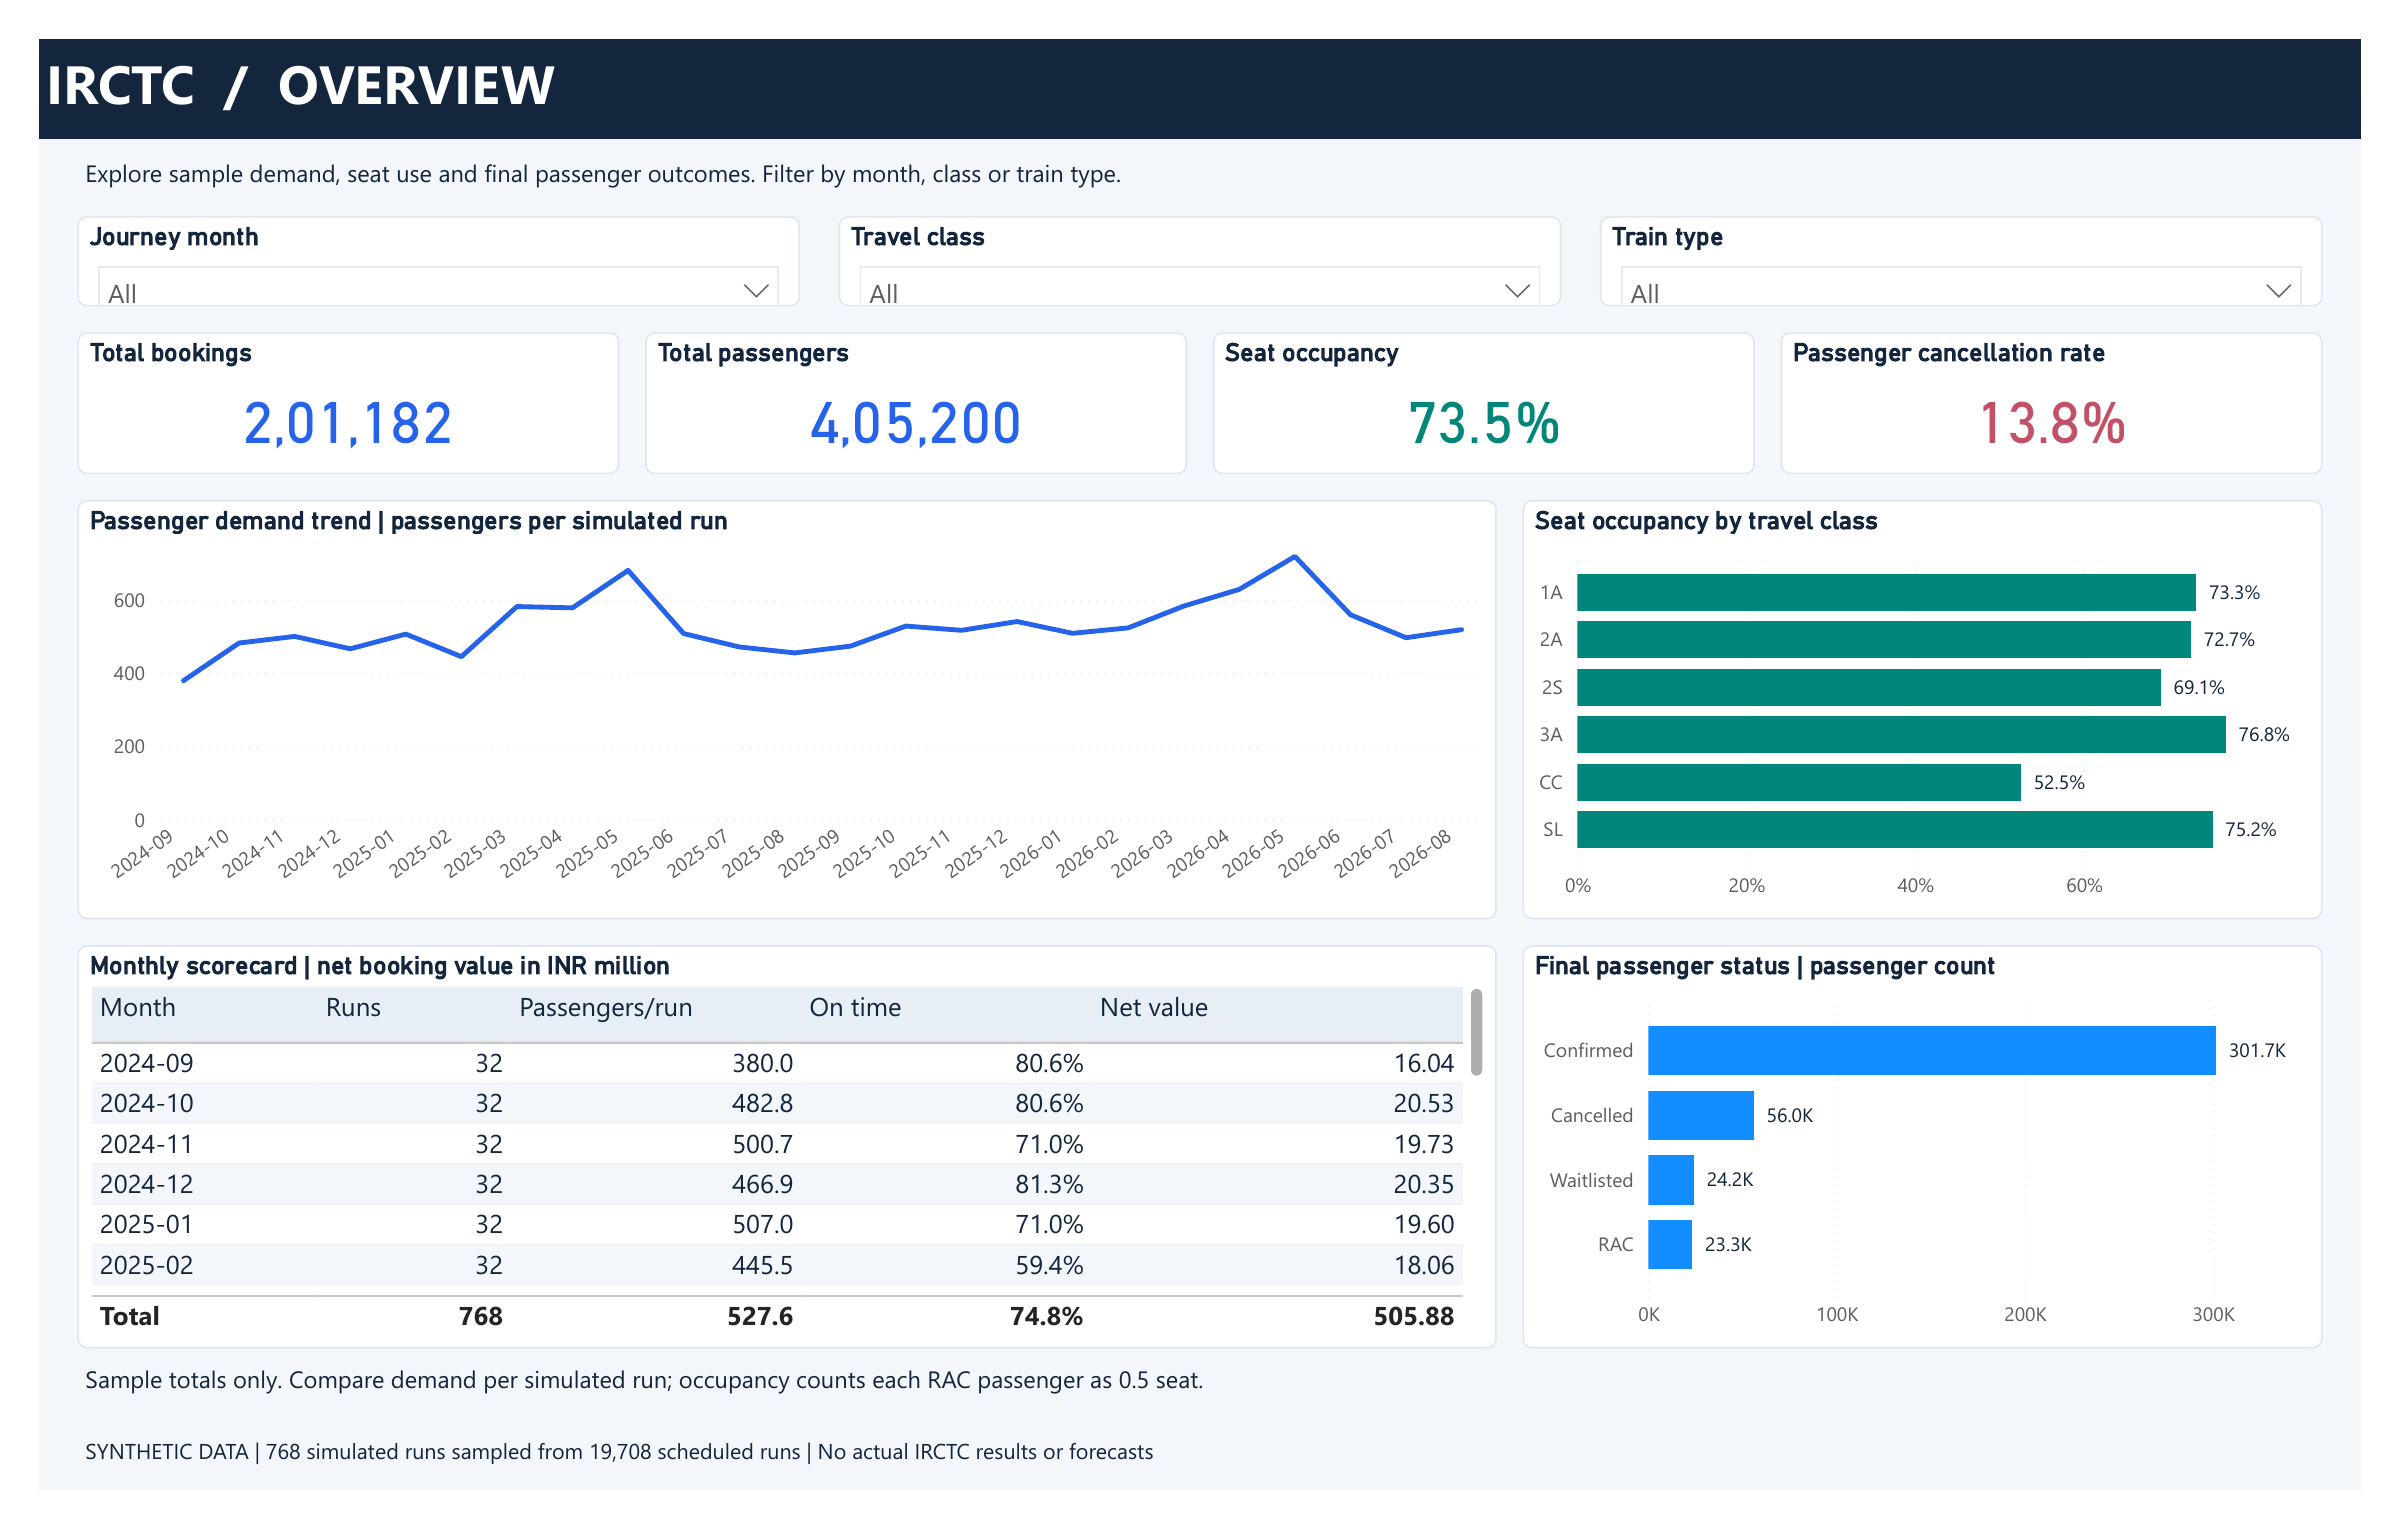

Layout of this report page (visuals, bound fields, positions):
{"tool":"tableau","page":{"name":"01 Overview","canvas":[1400,820],"ordinal":0},"visuals":[{"type":"text","box":[0,0,1400,58]},{"type":"text","box":[22,66,1356,28]},{"type":"parameter","param":"[Parameters].[Journey month]","box":[22,102,328,53]},{"type":"parameter","param":"[Parameters].[Travel class]","box":[366,102,328,53]},{"type":"parameter","param":"[Parameters].[Train type]","box":[710,102,328,53]},{"type":"text","box":[1060,111,318,35]},{"type":"text","box":[22,168,327,27]},{"type":"text","box":[366,168,327,27]},{"type":"text","box":[710,168,327,27]},{"type":"text","box":[1054,168,327,27]},{"type":"worksheet","title":"01 KPI Total bookings","mark":"Text","box":[22,195,327,61]},{"type":"worksheet","title":"01 KPI Total passengers","mark":"Text","box":[366,195,327,61]},{"type":"worksheet","title":"01 KPI Seat occupancy","mark":"Text","box":[710,195,327,61]},{"type":"worksheet","title":"01 KPI Passenger cancellation rate","mark":"Text","box":[1054,195,327,61]},{"type":"worksheet","title":"01 Passenger demand | passengers per run","mark":"Line","rows":["Passengers per Run"],"cols":["Month"],"box":[22,272,850,225]},{"type":"worksheet","title":"01 Seat occupancy by class","mark":"Bar","rows":["TravelClass"],"cols":["Seat Occupancy"],"box":[888,272,490,225]},{"type":"worksheet","title":"01 Final passenger status","mark":"Bar","rows":["FinalStatus"],"cols":["Total Passengers"],"box":[22,513,660,222]},{"type":"parameter","param":"[Parameters].[Rate KPI]","box":[698,513,680,40]},{"type":"worksheet","title":"01 Selected rate by month","mark":"Line","rows":["Selected Rate KPI"],"cols":["Month"],"box":[698,558,680,177]},{"type":"text","box":[22,751,1356,27]},{"type":"text","box":[22,788,1356,23]}]}

Visuals, with their boxes on the page's 1400x820 design canvas (x1, y1, x2, y2). These are canvas units, not pixel positions in the 2400x1530 screenshot, which may show the page scaled, cropped or inside an application window:
text: region(0, 0, 1400, 58)
text: region(22, 66, 1378, 94)
parameter: region(22, 102, 350, 155)
parameter: region(366, 102, 694, 155)
parameter: region(710, 102, 1038, 155)
text: region(1060, 111, 1378, 146)
text: region(22, 168, 349, 195)
text: region(366, 168, 693, 195)
text: region(710, 168, 1037, 195)
text: region(1054, 168, 1381, 195)
"01 KPI Total bookings" worksheet (Text marks): region(22, 195, 349, 256)
"01 KPI Total passengers" worksheet (Text marks): region(366, 195, 693, 256)
"01 KPI Seat occupancy" worksheet (Text marks): region(710, 195, 1037, 256)
"01 KPI Passenger cancellation rate" worksheet (Text marks): region(1054, 195, 1381, 256)
"01 Passenger demand | passengers per run" worksheet (Line marks): region(22, 272, 872, 497)
"01 Seat occupancy by class" worksheet (Bar marks): region(888, 272, 1378, 497)
"01 Final passenger status" worksheet (Bar marks): region(22, 513, 682, 735)
parameter: region(698, 513, 1378, 553)
"01 Selected rate by month" worksheet (Line marks): region(698, 558, 1378, 735)
text: region(22, 751, 1378, 778)
text: region(22, 788, 1378, 811)
